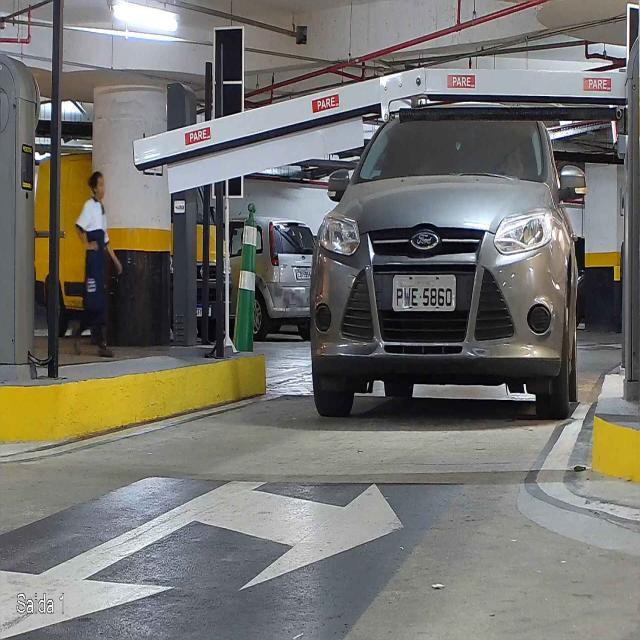old_plate: (391, 272, 458, 313)
